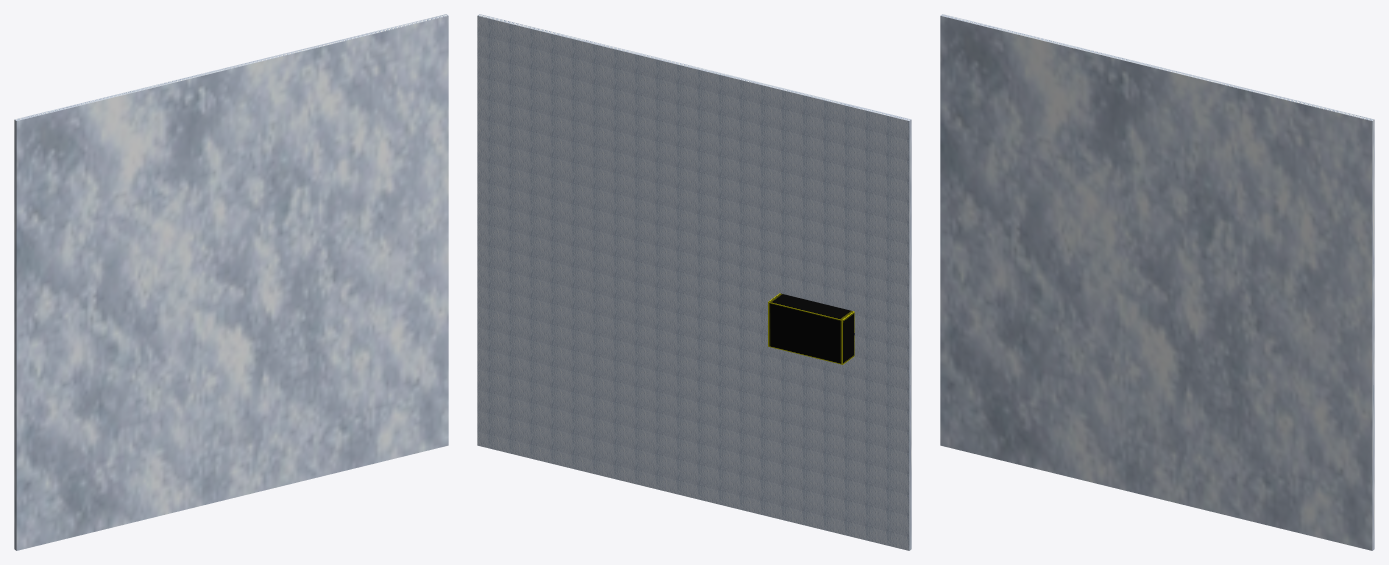
File: goodshit.dae
The picture shows the model from 3 angles, left to right: view 1: azimuth 30°, elevation 25°; view 2: azimuth 150°, elevation 25°; view 3: azimuth 330°, elevation 25°; orthographic projection.
Parts seen in each view (by area): view 1: house; view 2: house, cage; view 3: house.
Part boxes in pixels (x1,y1,x2,y2): house: [14, 14, 448, 550]; house: [477, 14, 911, 550]; cage: [768, 293, 854, 364]; house: [940, 14, 1374, 550].
Bounding box in the file's own units: 40.38 × 2.29 × 38.38.
6 materials, 6 textured.
